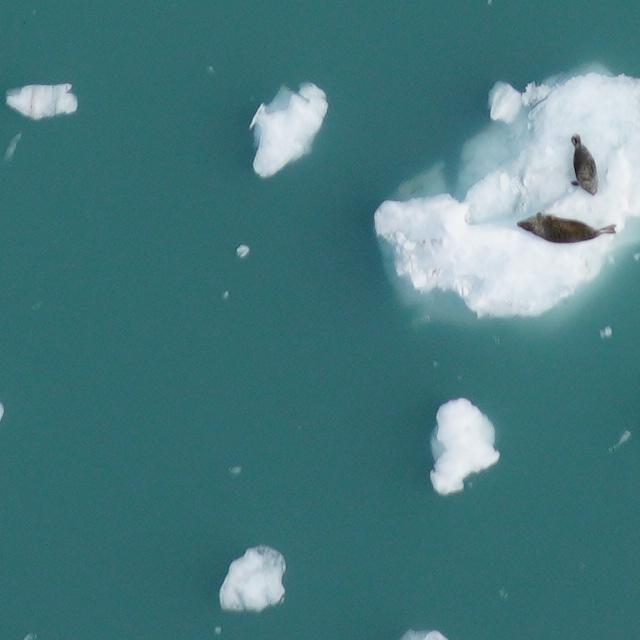seal: (519, 212, 615, 243), (571, 135, 597, 194)
